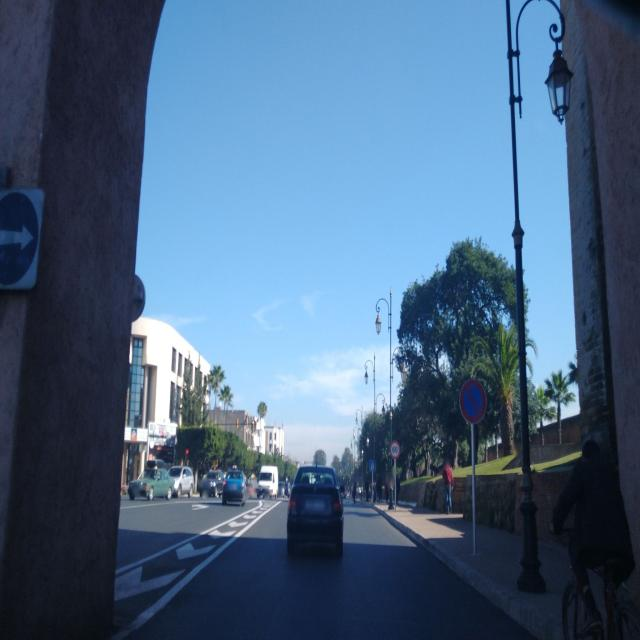forb_stopping: (458, 377, 487, 425)
